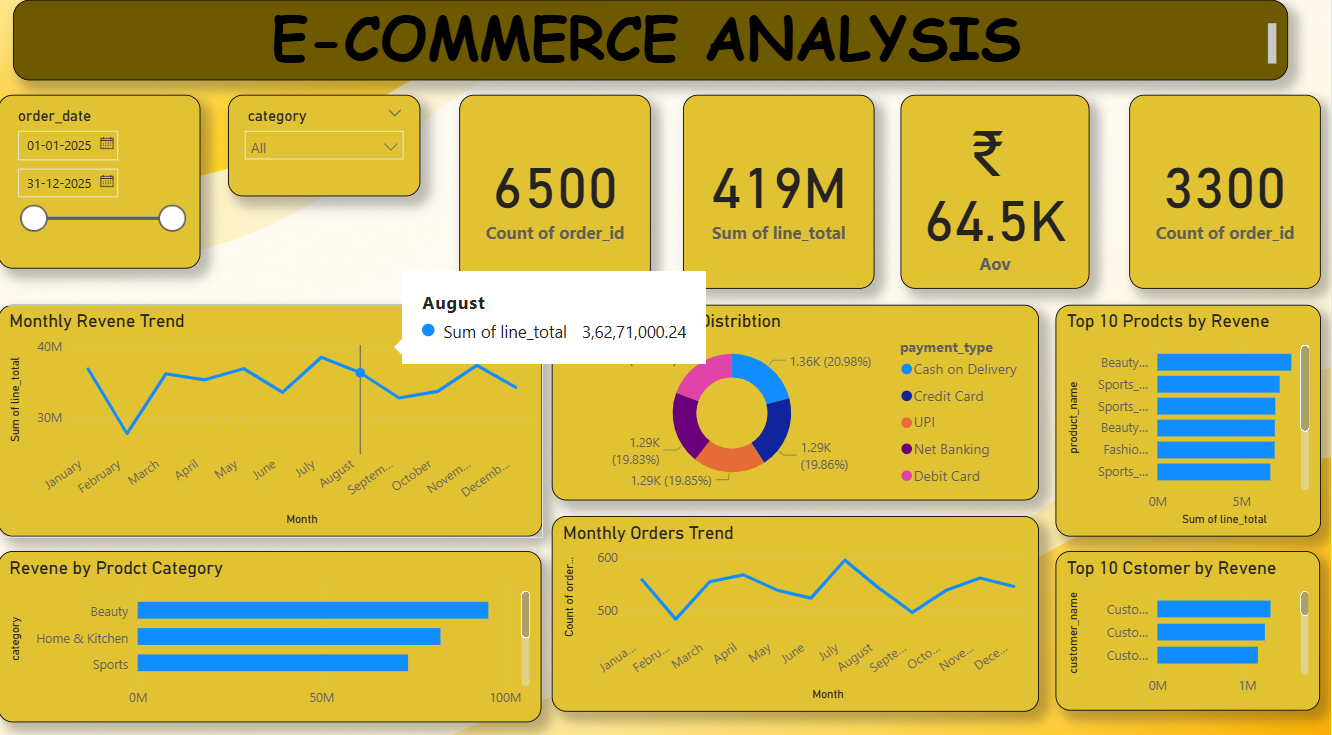

The dashboard page shown, as its layout file describes it:
{"tool":"powerbi","page":{"name":"Page 2","canvas":[1280,720],"ordinal":0},"visuals":[{"type":"textbox","box":[24,8,1214,77],"z":0},{"type":"card","fields":{"Values":["CountNonNull(orders.order_id)"]},"box":[448.8,98.8,182.1,184.5],"z":1},{"type":"card","fields":{"Values":["Sum(order_items.line_total)"]},"box":[661.9,98.8,182.1,184.5],"z":2},{"type":"card","fields":{"Values":["customers.Aov"]},"box":[869.1,98.8,179.8,184.5],"z":3},{"type":"card","fields":{"Values":["CountNonNull(orders.order_id)"]},"box":[1086.9,98.8,182.1,184.5],"z":4},{"type":"lineChart","title":"Monthly Revene Trend","fields":{"Category":["orders.order_date.Variation.Date Hierarchy.Month"],"Y":["Sum(order_items.line_total)"]},"box":[9.6,299.1,518.7,220.9],"z":5},{"type":"clusteredBarChart","title":"Revene by Prodct Category","fields":{"Category":["products.category"],"Y":["Sum(order_items.line_total)"]},"box":[9.6,533.8,517.3,163.3],"z":6},{"type":"donutChart","title":"Payment Method Distribtion","fields":{"Category":["payments.payment_type"],"Y":["CountNonNull(payments.payment_id)"]},"box":[536.5,299.1,463.8,186.6],"z":7},{"type":"lineChart","title":"Monthly Orders Trend","fields":{"Category":["orders.order_date.Variation.Date Hierarchy.Month"],"Y":["Count(orders.order_id)"]},"box":[536.5,499.5,463.8,186.6],"z":8},{"type":"clusteredBarChart","title":"Top 10 Prodcts by Revene","fields":{"Category":["products.product_name"],"Y":["Sum(order_items.line_total)"]},"box":[1016.8,299.1,252.5,220.9],"z":9},{"type":"clusteredBarChart","title":"Top 10 Cstomer by Revene","fields":{"Category":["customers.customer_name"],"Y":["Sum(order_items.line_total)"]},"box":[1016.7,533.3,252.4,152.4],"z":10},{"type":"slicer","fields":{"Values":["orders.order_date"]},"box":[9.5,98.8,192.9,165.5],"z":11},{"type":"slicer","fields":{"Values":["products.category"]},"box":[228.6,98.8,183.3,96.4],"z":12}]}

Visuals, with their boxes in screenshot pixels (x1, y1, x2, y2), scaled from the page's 1280x720 canvas onto the 1332x735 screenshot:
textbox: 25,8,1288,87
card - CountNonNull(orders.order_id): 467,101,657,289
card - Sum(order_items.line_total): 689,101,878,289
card - customers.Aov: 904,101,1092,289
card - CountNonNull(orders.order_id): 1131,101,1321,289
"Monthly Revene Trend" lineChart: 10,305,550,531
"Revene by Prodct Category" clusteredBarChart: 10,545,548,712
"Payment Method Distribtion" donutChart: 558,305,1041,496
"Monthly Orders Trend" lineChart: 558,510,1041,700
"Top 10 Prodcts by Revene" clusteredBarChart: 1058,305,1321,531
"Top 10 Cstomer by Revene" clusteredBarChart: 1058,544,1321,700
slicer - orders.order_date: 10,101,211,270
slicer - products.category: 238,101,429,199
